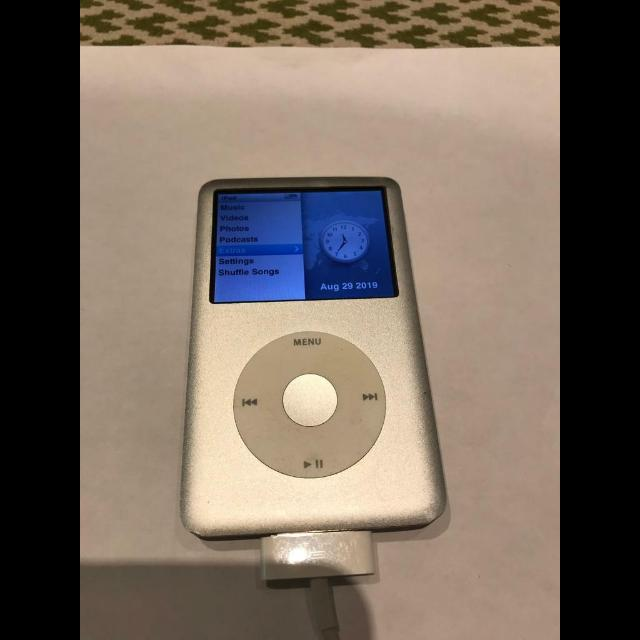Music-Player: (165, 162, 458, 542)
